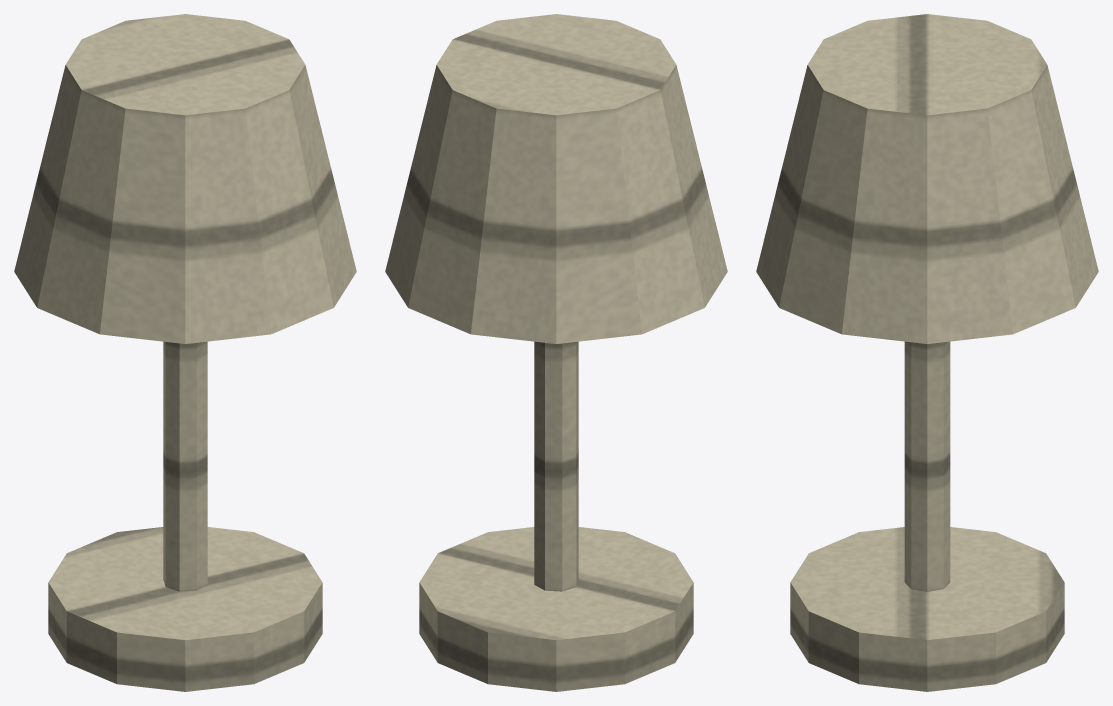
File: table_lamp.glb
The picture shows the model from 3 angles, left to right: view 1: azimuth 30°, elevation 25°; view 2: azimuth 150°, elevation 25°; view 3: azimuth 270°, elevation 25°; orthographic projection.
Visible parts, largest first — view 1: table_lamp-col; view 2: table_lamp-col; view 3: table_lamp-col.
Boxes of the visible parts, x1,y1,x2,y2 form: table_lamp-col: (14,14,356,691); table_lamp-col: (385,14,727,691); table_lamp-col: (756,14,1098,691).
Bounding box in the file's own units: 0.3 × 0.55 × 0.3.
Materials: 1 (1 with a texture image).
